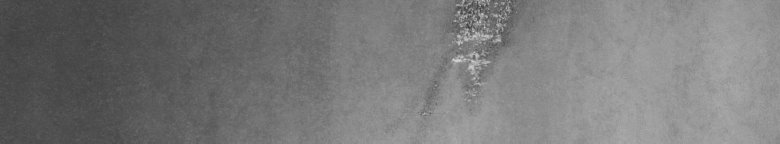hc: (418, 4, 517, 117)
